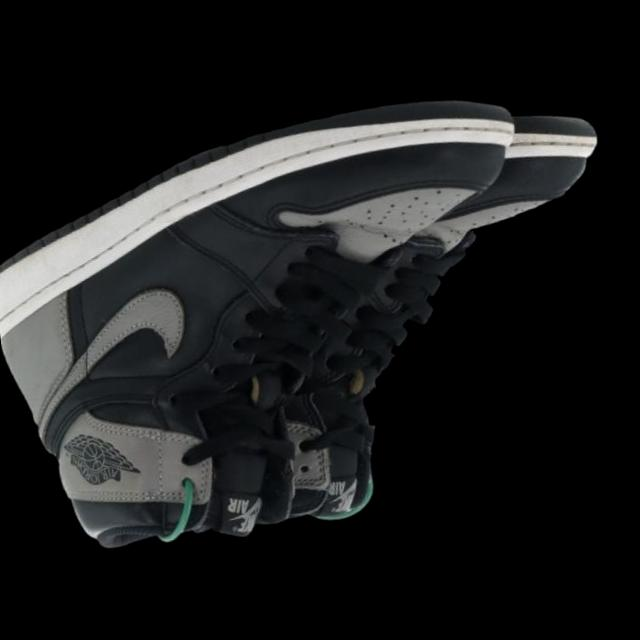nike_original_jordan: (0, 53, 614, 594), (150, 89, 640, 553)
